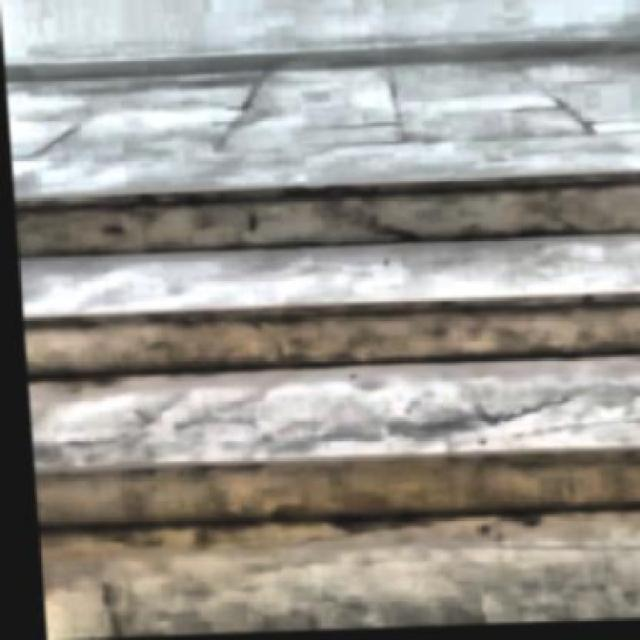stair: (11, 167, 638, 638)
